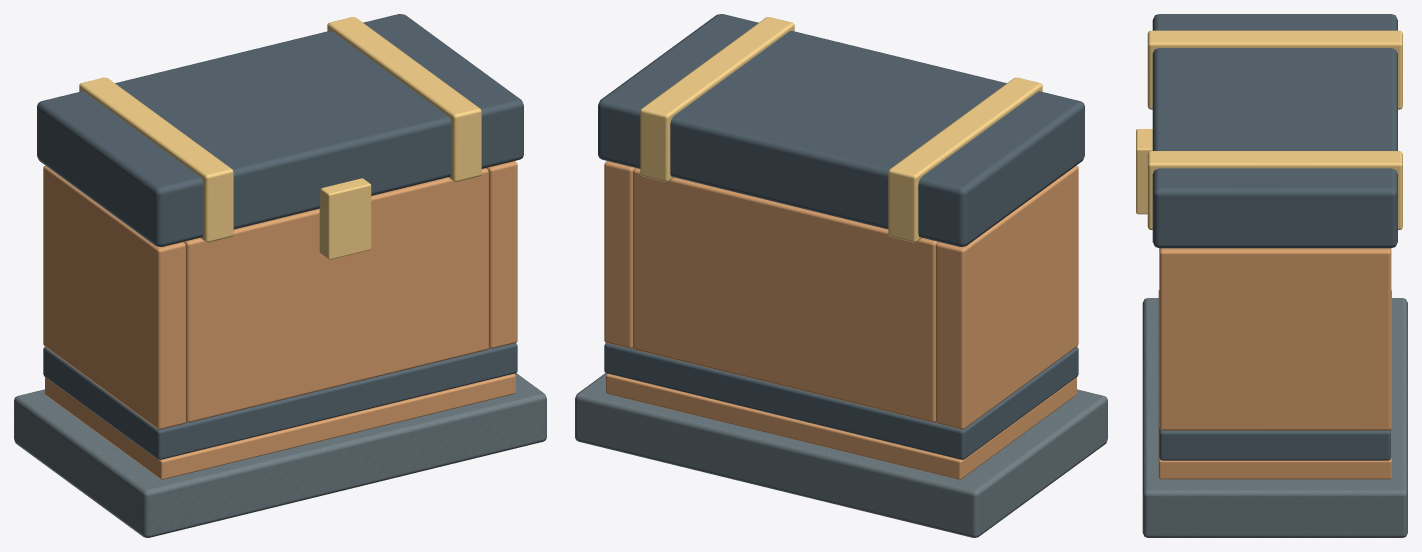
Rendered from dwarven-runeforge-dungeon-dwarven-runeforge-dungeon-tr-2dc2c6b7__28611.glb.
3 renders of one model, left to right at view 1: azimuth 30°, elevation 25°; view 2: azimuth 150°, elevation 25°; view 3: azimuth 270°, elevation 25°, orthographic.
Parts seen in each view (by area): view 1: dwarven-runeforge-dungeon-treasure-coffer, lid (×3); view 2: dwarven-runeforge-dungeon-treasure-coffer, lid (×3); view 3: dwarven-runeforge-dungeon-treasure-coffer, lid (×3).
Boxes of the visible parts, <box> form: dwarven-runeforge-dungeon-treasure-coffer: <box>14,161,546,537</box>; lid (×3): <box>37,14,523,246</box>; dwarven-runeforge-dungeon-treasure-coffer: <box>575,161,1107,537</box>; lid (×3): <box>598,14,1084,246</box>; dwarven-runeforge-dungeon-treasure-coffer: <box>1136,129,1407,537</box>; lid (×3): <box>1147,14,1402,248</box>.
Size of the model in its own units: 1.4 by 1.15 by 0.82.
Materials: 4 (1 with a texture image).
